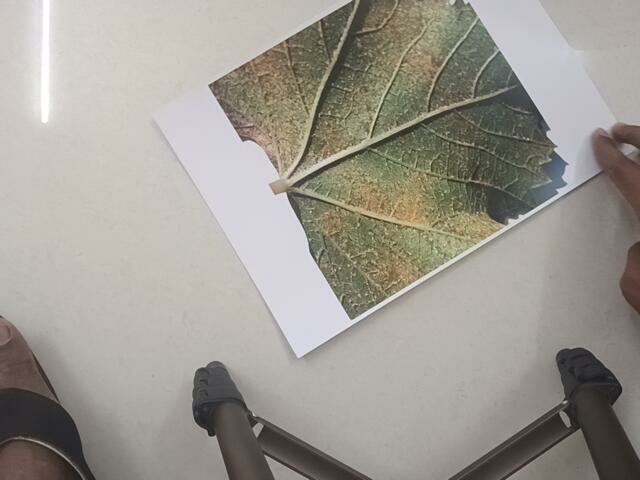Grape_Rust_Fungus: (213, 1, 575, 321)
